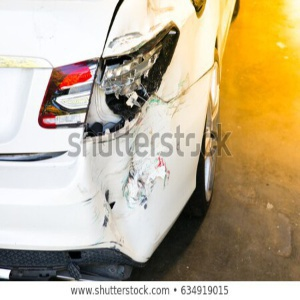bonnet: (126, 99, 212, 133)
bumper: (104, 174, 212, 228)
